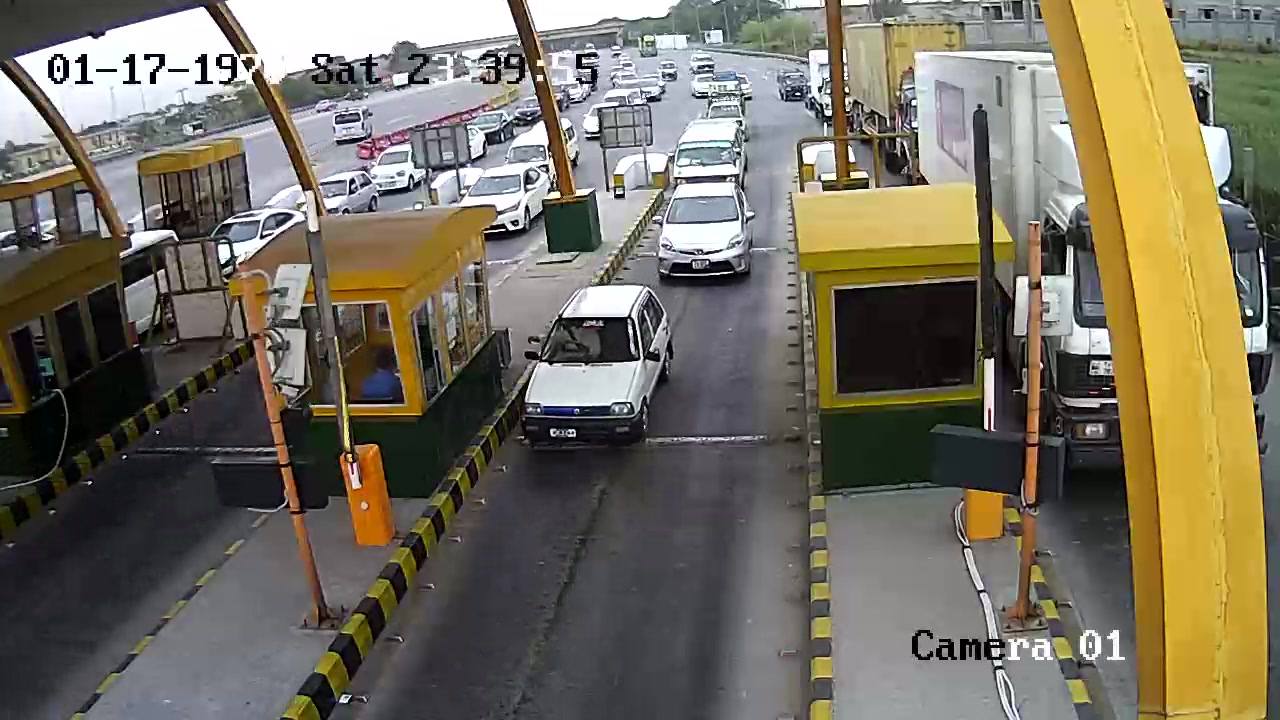F1: (523, 279, 674, 458)
